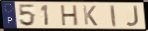1: (38, 4, 50, 27)
5: (17, 3, 37, 27)
H: (60, 4, 79, 27)
I: (109, 4, 118, 28)
J: (124, 5, 140, 28)
K: (82, 5, 99, 27)
